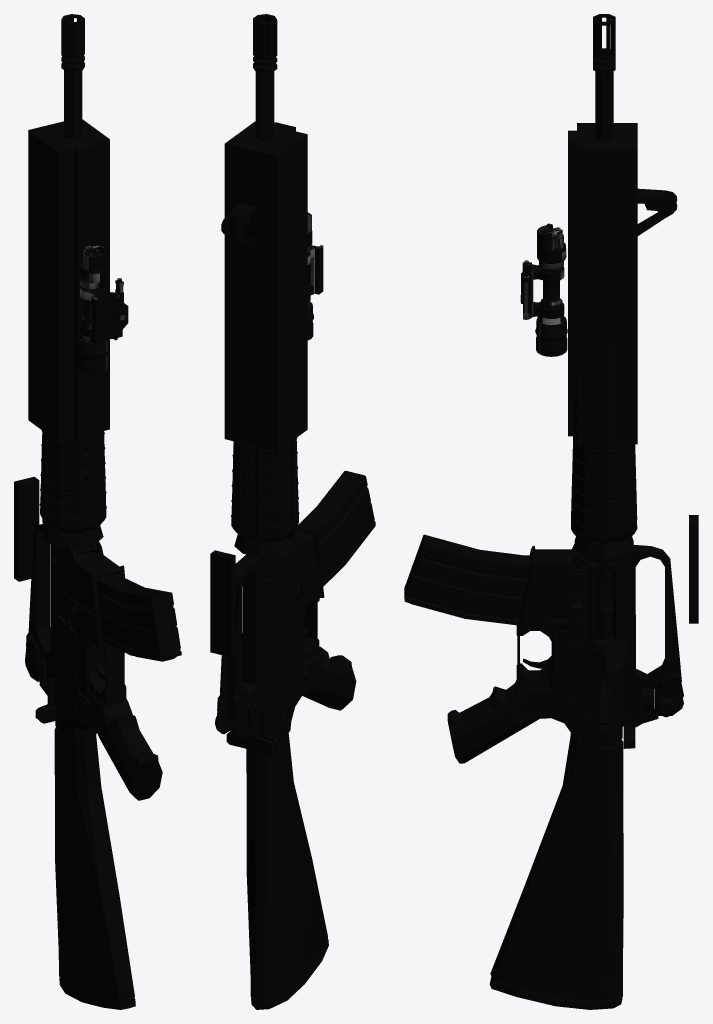
Rendered from M16A2__Handguard_AR_Quad__Light_Weapon__Mount_AR_CarryHandle.fbx.
3 views of the same model, side by side, from view 1: azimuth 30°, elevation 25°; view 2: azimuth 150°, elevation 25°; view 3: azimuth 270°, elevation 25° (orthographic).
Parts seen in each view (by area): view 1: asset_M16A2.001; view 2: asset_M16A2.001; view 3: asset_M16A2.001.
Boxes of the visible parts, left/top/right/bottom form: asset_M16A2.001: left=14, top=14, right=181, bottom=1009; asset_M16A2.001: left=210, top=14, right=375, bottom=1009; asset_M16A2.001: left=404, top=14, right=698, bottom=1009.
Size of the model in its own units: 0.0384 by 0.6 by 0.1624.
